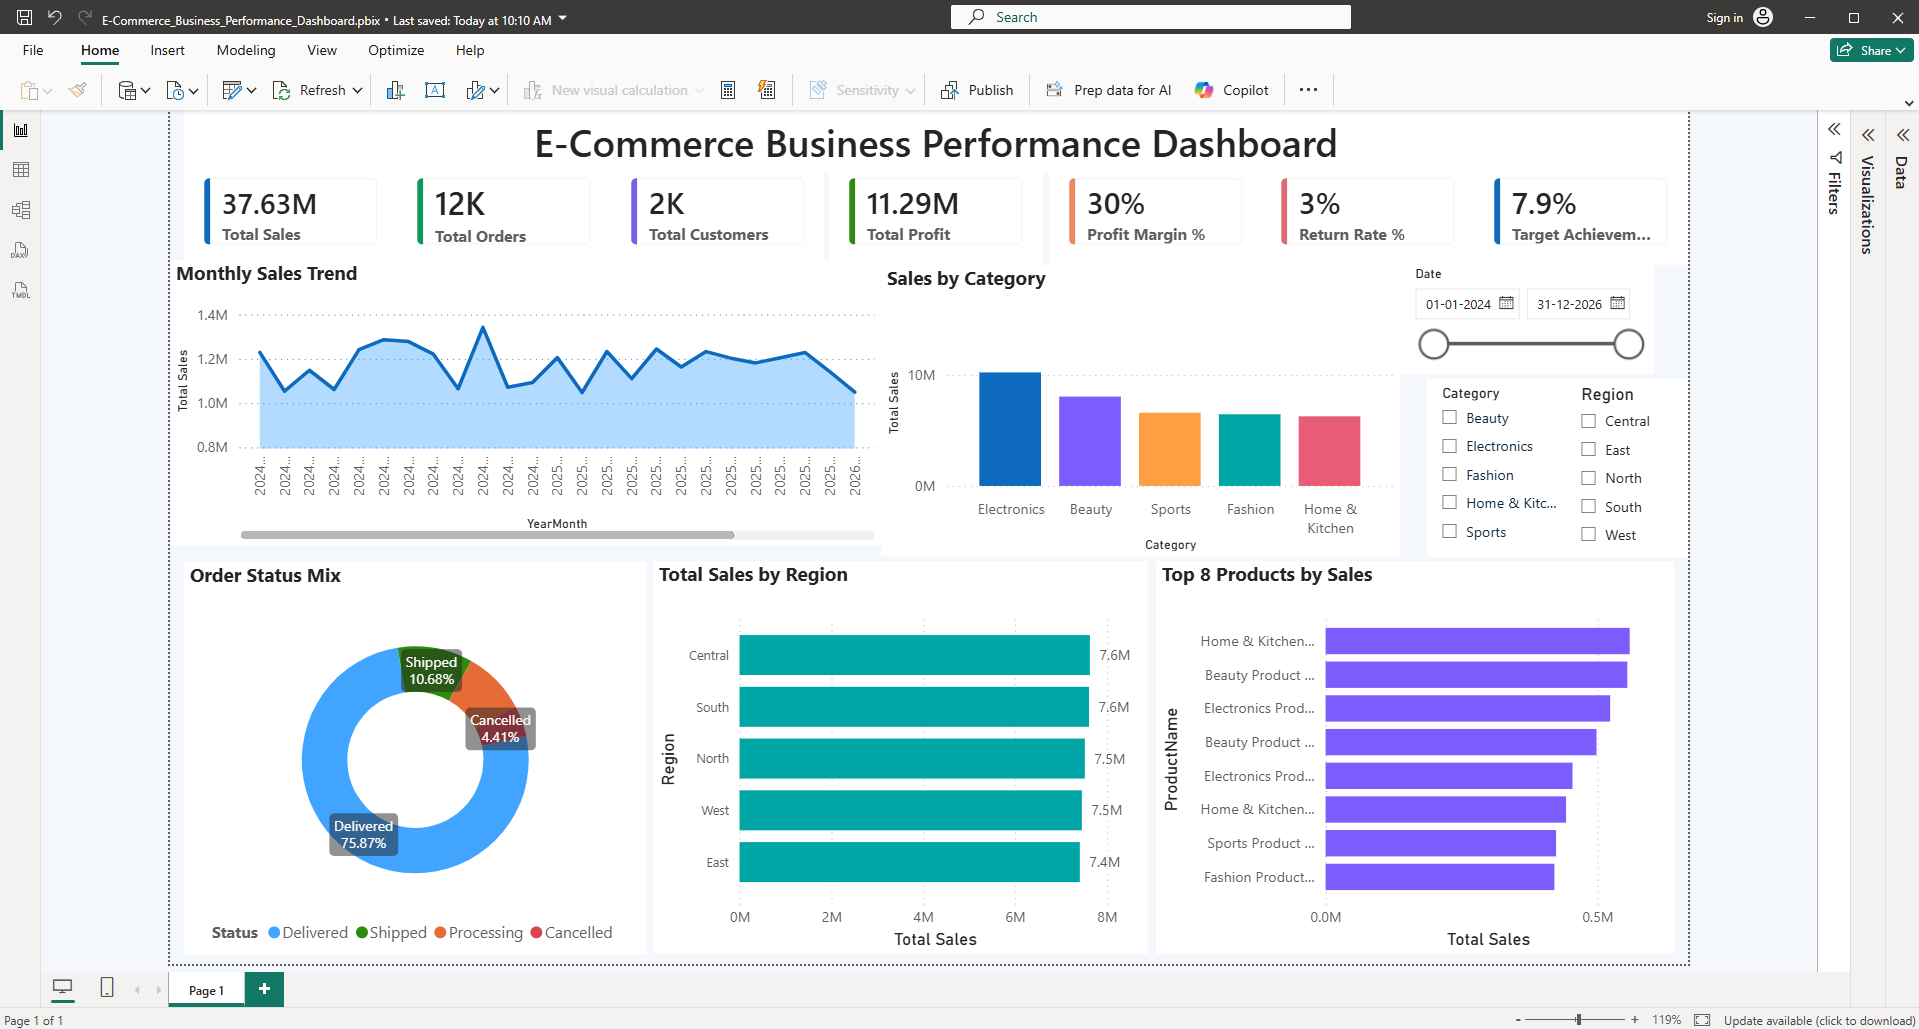

What the dashboard file says about the page in this screenshot:
{"tool":"powerbi","page":{"name":"Page 1","canvas":[1280,720],"ordinal":0},"visuals":[{"type":"cardVisual","fields":{"Data":["_Measures.Total Sales"]},"box":[11.6,40.3,180,90],"z":0},{"type":"cardVisual","fields":{"Data":["_Measures.Total Orders"]},"box":[191.6,40.3,180,90],"z":1000},{"type":"cardVisual","fields":{"Data":["_Measures.Total Customers"]},"box":[371.6,40.3,180,90],"z":2000},{"type":"cardVisual","fields":{"Data":["_Measures.Total Profit"]},"box":[555.2,40.3,180,90],"z":3000},{"type":"cardVisual","fields":{"Data":["_Measures.Profit Margin %"]},"box":[741.5,40.3,180,90],"z":4000},{"type":"cardVisual","fields":{"Data":["_Measures.Return Rate %"]},"box":[919.7,40.3,180,90],"z":5000},{"type":"cardVisual","fields":{"Data":["_Measures.Target Achievement %"]},"box":[1099.7,40.3,180,90],"z":6000},{"type":"clusteredColumnChart","title":"Sales by Category","fields":{"Category":["DimProduct.Category"],"Y":["_Measures.Total Sales"]},"box":[599.1,130.7,437.9,246.3],"z":7000},{"type":"lineChart","title":"Monthly Sales Trend","fields":{"Category":["DimDate.YearMonth"],"Y":["_Measures.Total Sales"]},"box":[0,126.3,599.1,240.9],"z":8000},{"type":"donutChart","title":"Order Status Mix","fields":{"Category":["FactSales.Status"],"Y":["_Measures.Total Orders"]},"box":[11.8,380.9,390,330.9],"z":9000},{"type":"barChart","fields":{"Category":["DimRegion.Region"],"Y":["_Measures.Total Sales"]},"box":[407.5,380.6,417.3,331.3],"z":10000},{"type":"barChart","title":"Top 8 Products by Sales","fields":{"Category":["DimProduct.ProductName"],"Y":["_Measures.Total Sales"]},"box":[831,380.6,437,331.3],"z":11000},{"type":"slicer","title":"Date Range","fields":{"Values":["DimDate.Date"]},"box":[1037,126.3,214,95.8],"z":12000},{"type":"slicer","fields":{"Values":["DimProduct.Category"]},"box":[1059.4,226.6,117.3,150.4],"z":13000},{"type":"textbox","box":[11.6,0,1268.2,52.7],"z":14000},{"type":"slicer","fields":{"Values":["DimRegion.Region"]},"box":[1176.7,226.6,103,150.4],"z":14001}]}

Visuals, with their boxes on the page's 1280x720 design canvas (x1, y1, x2, y2). These are canvas units, not pixel positions in the 1919x1029 screenshot, which may show the page scaled, cropped or inside an application window:
cardVisual - _Measures.Total Sales: detection(12, 40, 192, 130)
cardVisual - _Measures.Total Orders: detection(192, 40, 372, 130)
cardVisual - _Measures.Total Customers: detection(372, 40, 552, 130)
cardVisual - _Measures.Total Profit: detection(555, 40, 735, 130)
cardVisual - _Measures.Profit Margin %: detection(742, 40, 922, 130)
cardVisual - _Measures.Return Rate %: detection(920, 40, 1100, 130)
cardVisual - _Measures.Target Achievement %: detection(1100, 40, 1280, 130)
"Sales by Category" clusteredColumnChart: detection(599, 131, 1037, 377)
"Monthly Sales Trend" lineChart: detection(0, 126, 599, 367)
"Order Status Mix" donutChart: detection(12, 381, 402, 712)
barChart - DimRegion.Region x _Measures.Total Sales: detection(408, 381, 825, 712)
"Top 8 Products by Sales" barChart: detection(831, 381, 1268, 712)
"Date Range" slicer: detection(1037, 126, 1251, 222)
slicer - DimProduct.Category: detection(1059, 227, 1177, 377)
textbox: detection(12, 0, 1280, 53)
slicer - DimRegion.Region: detection(1177, 227, 1280, 377)
